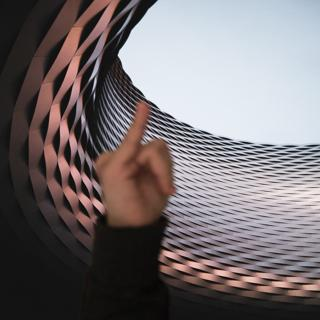HAVE: (86, 97, 187, 232)
